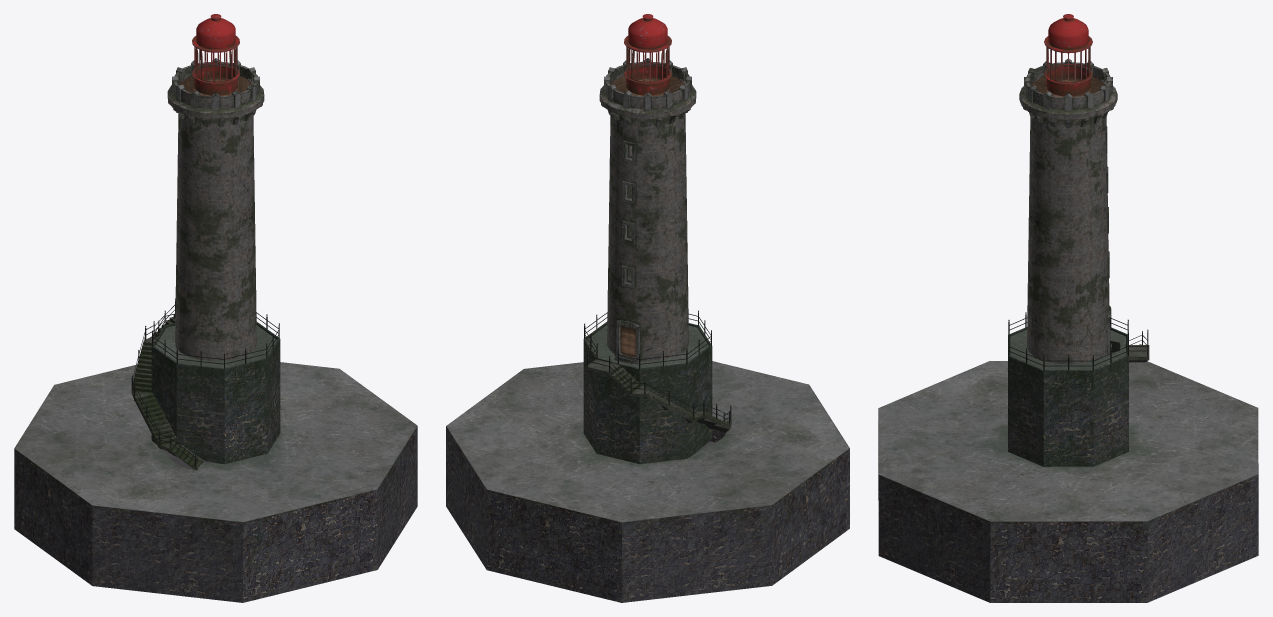
Rendered from Phare.obj.
3 views of the same model, side by side, from view 1: azimuth 30°, elevation 25°; view 2: azimuth 150°, elevation 25°; view 3: azimuth 270°, elevation 25° (orthographic).
Visible parts, largest first — view 1: BasePhare_Circle.001, CorpHare_Circle.002, Lanterne_Circle.003, Escalier_Plane.002; view 2: BasePhare_Circle.001, CorpHare_Circle.002, Lanterne_Circle.003, Escalier_Plane.002; view 3: BasePhare_Circle.001, CorpHare_Circle.002, Lanterne_Circle.003.
Boxes of the visible parts, x1,y1,x2,y2 form: BasePhare_Circle.001: [14, 322, 417, 602]; CorpHare_Circle.002: [167, 61, 264, 360]; Lanterne_Circle.003: [192, 14, 239, 95]; Escalier_Plane.002: [131, 314, 202, 469]; BasePhare_Circle.001: [446, 321, 849, 602]; CorpHare_Circle.002: [599, 61, 696, 362]; Lanterne_Circle.003: [624, 14, 671, 95]; Escalier_Plane.002: [586, 359, 731, 430]; BasePhare_Circle.001: [878, 327, 1258, 602]; CorpHare_Circle.002: [1019, 62, 1117, 364]; Lanterne_Circle.003: [1044, 14, 1092, 96].
Size of the model in its own units: 25.11 by 36.94 by 25.11.
Materials: 3 (3 with a texture image).
